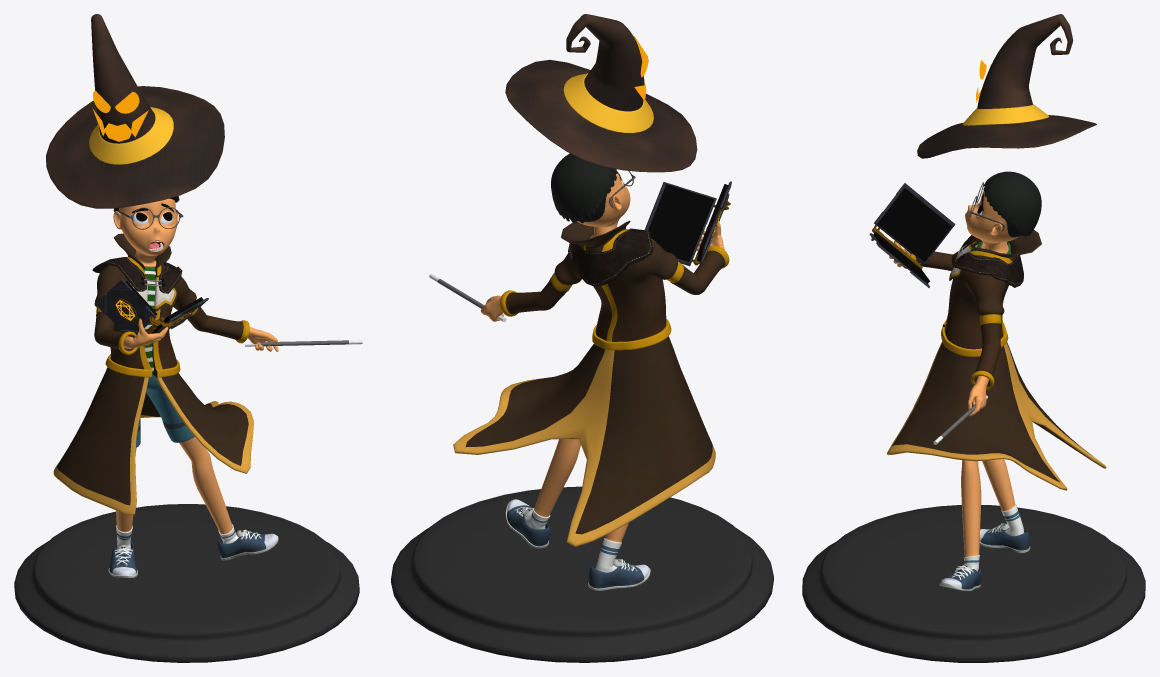
3 renders of one model, left to right at view 1: azimuth 30°, elevation 25°; view 2: azimuth 150°, elevation 25°; view 3: azimuth 270°, elevation 25°, orthographic. The views are drawn at different scales.
Visible parts, largest first — view 1: Wand:pCylinder1_Wand:q_0, Evil_Hat:hattty_mesh_Evil_Hat:BLN_Hat_0, lower_coat_mesh_FK_BLN_Lower_coat_0, Upper_coat_mesh_BLN_upper_coat_0, R_shoe_mesh_BLN_shoes_0, Evil_Hat:pPlane1_Evil_Hat:solidShader_0, Chest_piece_mesh_BLN_chest_piece_0, pants_mesh_BLN_Pants_0, Book:polySurface2_Book:BLN_Book_covers_0, Book:Book_corner_mesh4_Book:lam_book_corners_0, Coat_collar_mesh_BLN_collar_piece_0, upper_body_mesh_BLN_shirt_0; view 2: Wand:pCylinder1_Wand:q_0, lower_coat_mesh_FK_BLN_Lower_coat_0, Evil_Hat:hattty_mesh_Evil_Hat:BLN_Hat_0, Upper_coat_mesh_BLN_upper_coat_0, Book:polySurface5_Book:blinn1_0, Chest_piece_mesh_BLN_chest_piece_0, R_shoe_mesh_BLN_shoes_0, Coat_collar_mesh_BLN_collar_piece_0, Book:polySurface2_Book:BLN_Book_covers_0; view 3: Wand:pCylinder1_Wand:q_0, lower_coat_mesh_FK_BLN_Lower_coat_0, Evil_Hat:hattty_mesh_Evil_Hat:BLN_Hat_0, Upper_coat_mesh_BLN_upper_coat_0, Book:polySurface5_Book:blinn1_0, R_shoe_mesh_BLN_shoes_0, Chest_piece_mesh_BLN_chest_piece_0, Book:polySurface2_Book:BLN_Book_covers_0, Coat_collar_mesh_BLN_collar_piece_0.
Boxes of the visible parts, bbox=[...] form: Wand:pCylinder1_Wand:q_0: bbox=[14, 196, 362, 662]; Evil_Hat:hattty_mesh_Evil_Hat:BLN_Hat_0: bbox=[46, 14, 224, 208]; lower_coat_mesh_FK_BLN_Lower_coat_0: bbox=[53, 367, 253, 515]; Upper_coat_mesh_BLN_upper_coat_0: bbox=[94, 257, 249, 377]; R_shoe_mesh_BLN_shoes_0: bbox=[108, 532, 278, 578]; Evil_Hat:pPlane1_Evil_Hat:solidShader_0: bbox=[93, 90, 148, 141]; Chest_piece_mesh_BLN_chest_piece_0: bbox=[92, 257, 182, 293]; pants_mesh_BLN_Pants_0: bbox=[136, 374, 194, 447]; Book:polySurface2_Book:BLN_Book_covers_0: bbox=[106, 280, 207, 333]; Book:Book_corner_mesh4_Book:lam_book_corners_0: bbox=[95, 279, 208, 334]; Coat_collar_mesh_BLN_collar_piece_0: bbox=[114, 233, 171, 270]; upper_body_mesh_BLN_shirt_0: bbox=[144, 269, 155, 373]; Wand:pCylinder1_Wand:q_0: bbox=[391, 153, 773, 662]; lower_coat_mesh_FK_BLN_Lower_coat_0: bbox=[453, 336, 715, 546]; Evil_Hat:hattty_mesh_Evil_Hat:BLN_Hat_0: bbox=[505, 14, 697, 172]; Upper_coat_mesh_BLN_upper_coat_0: bbox=[500, 229, 729, 350]; Book:polySurface5_Book:blinn1_0: bbox=[648, 184, 727, 261]; Chest_piece_mesh_BLN_chest_piece_0: bbox=[568, 228, 653, 286]; R_shoe_mesh_BLN_shoes_0: bbox=[505, 499, 650, 590]; Coat_collar_mesh_BLN_collar_piece_0: bbox=[561, 220, 630, 247]; Book:polySurface2_Book:BLN_Book_covers_0: bbox=[644, 181, 730, 265]; Wand:pCylinder1_Wand:q_0: bbox=[802, 171, 1145, 662]; lower_coat_mesh_FK_BLN_Lower_coat_0: bbox=[887, 341, 1106, 490]; Evil_Hat:hattty_mesh_Evil_Hat:BLN_Hat_0: bbox=[917, 14, 1096, 158]; Upper_coat_mesh_BLN_upper_coat_0: bbox=[910, 239, 1017, 389]; Book:polySurface5_Book:blinn1_0: bbox=[873, 188, 951, 283]; R_shoe_mesh_BLN_shoes_0: bbox=[939, 528, 1030, 591]; Chest_piece_mesh_BLN_chest_piece_0: bbox=[954, 235, 1023, 287]; Book:polySurface2_Book:BLN_Book_covers_0: bbox=[870, 183, 955, 286]; Coat_collar_mesh_BLN_collar_piece_0: bbox=[974, 230, 1041, 257].
Bounding box in the file's own units: 851 × 1478 × 830.
Materials: 20 (16 with a texture image).
